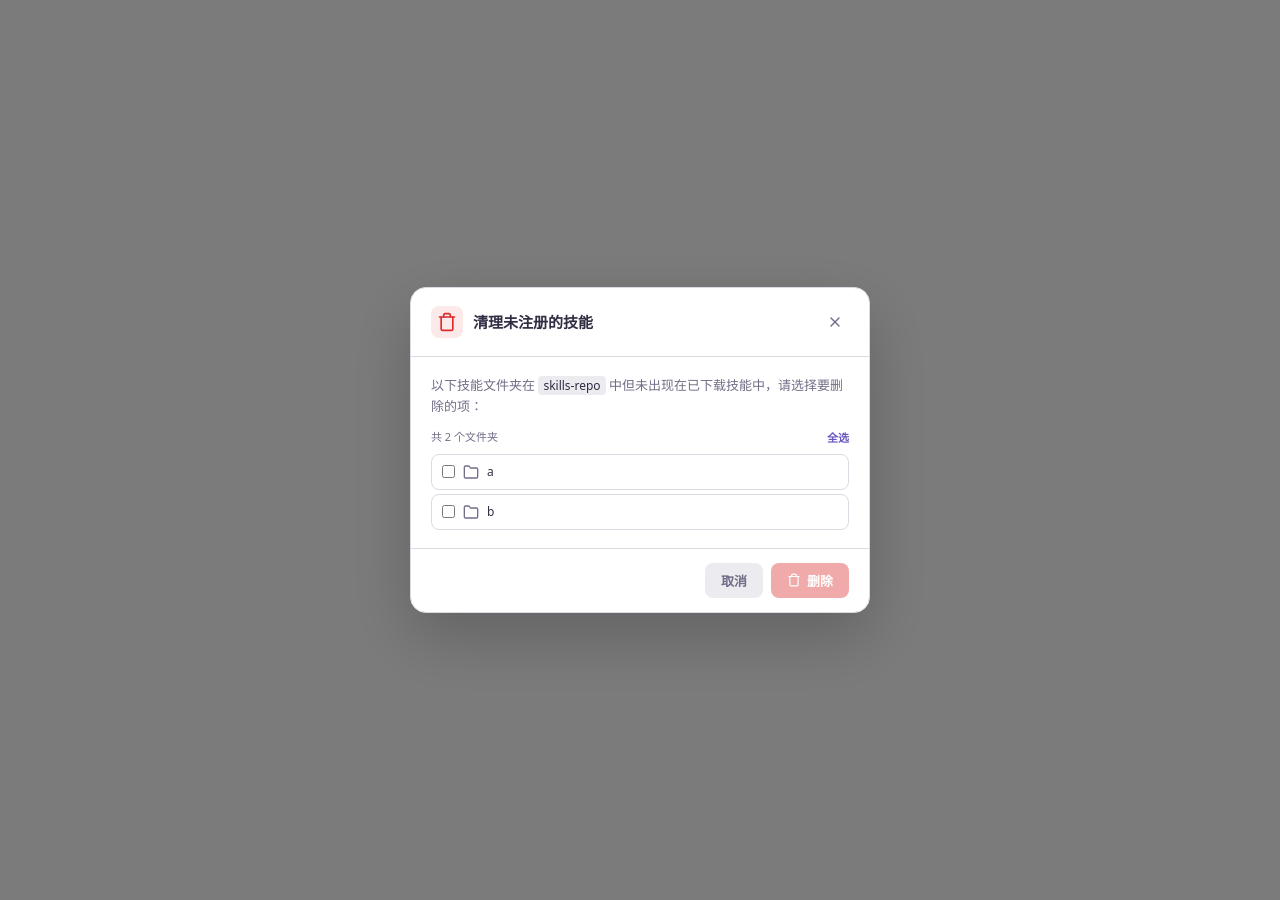
it: CleanupSelectModal › selecting an item enables delete button
The image size is (1280, 900).
Click the checkbox with class "cleanup-checkbox" showing "a": (448, 472) [442,465,455,478]
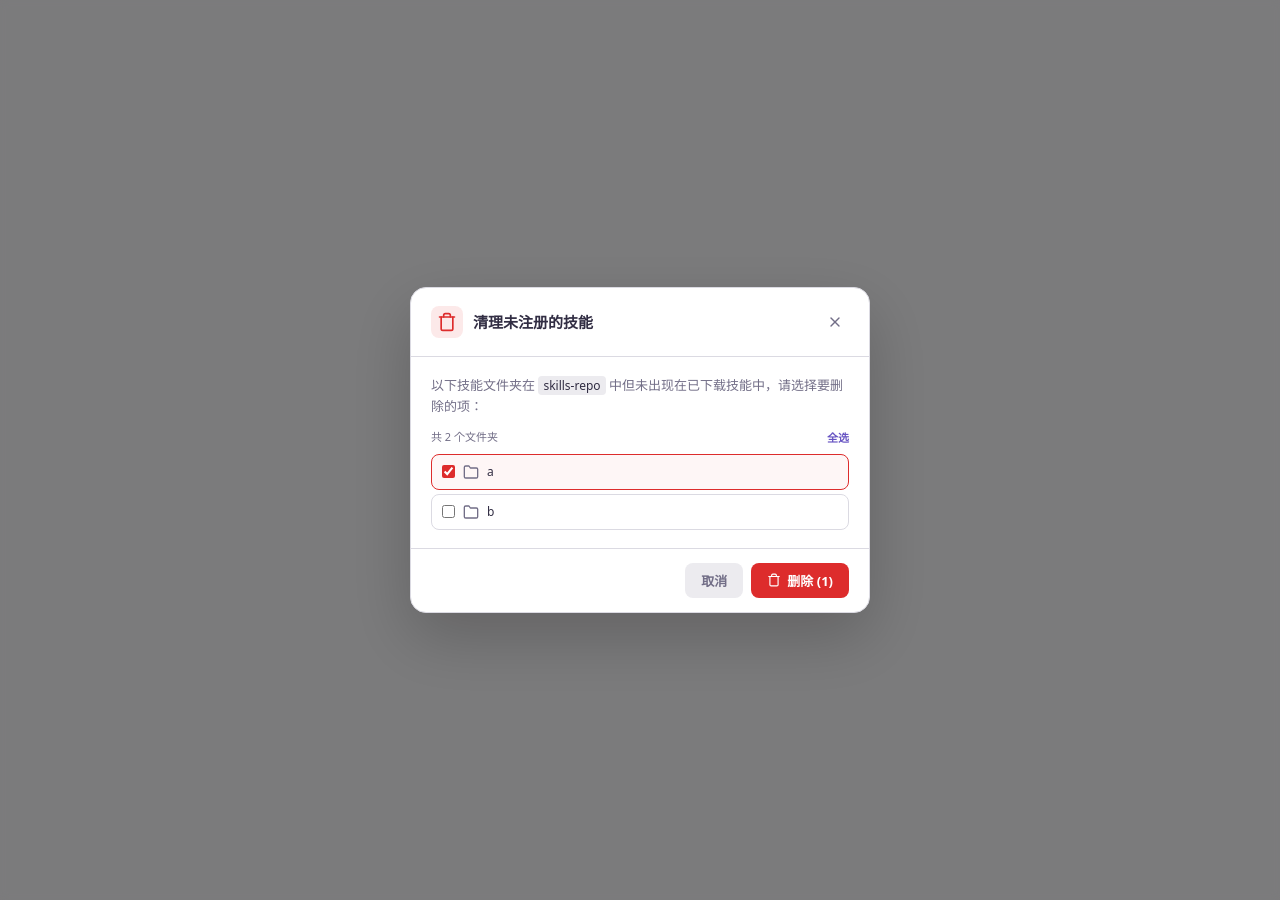
Check: the button with class "delete" is enabled, box [751,562,849,598]
